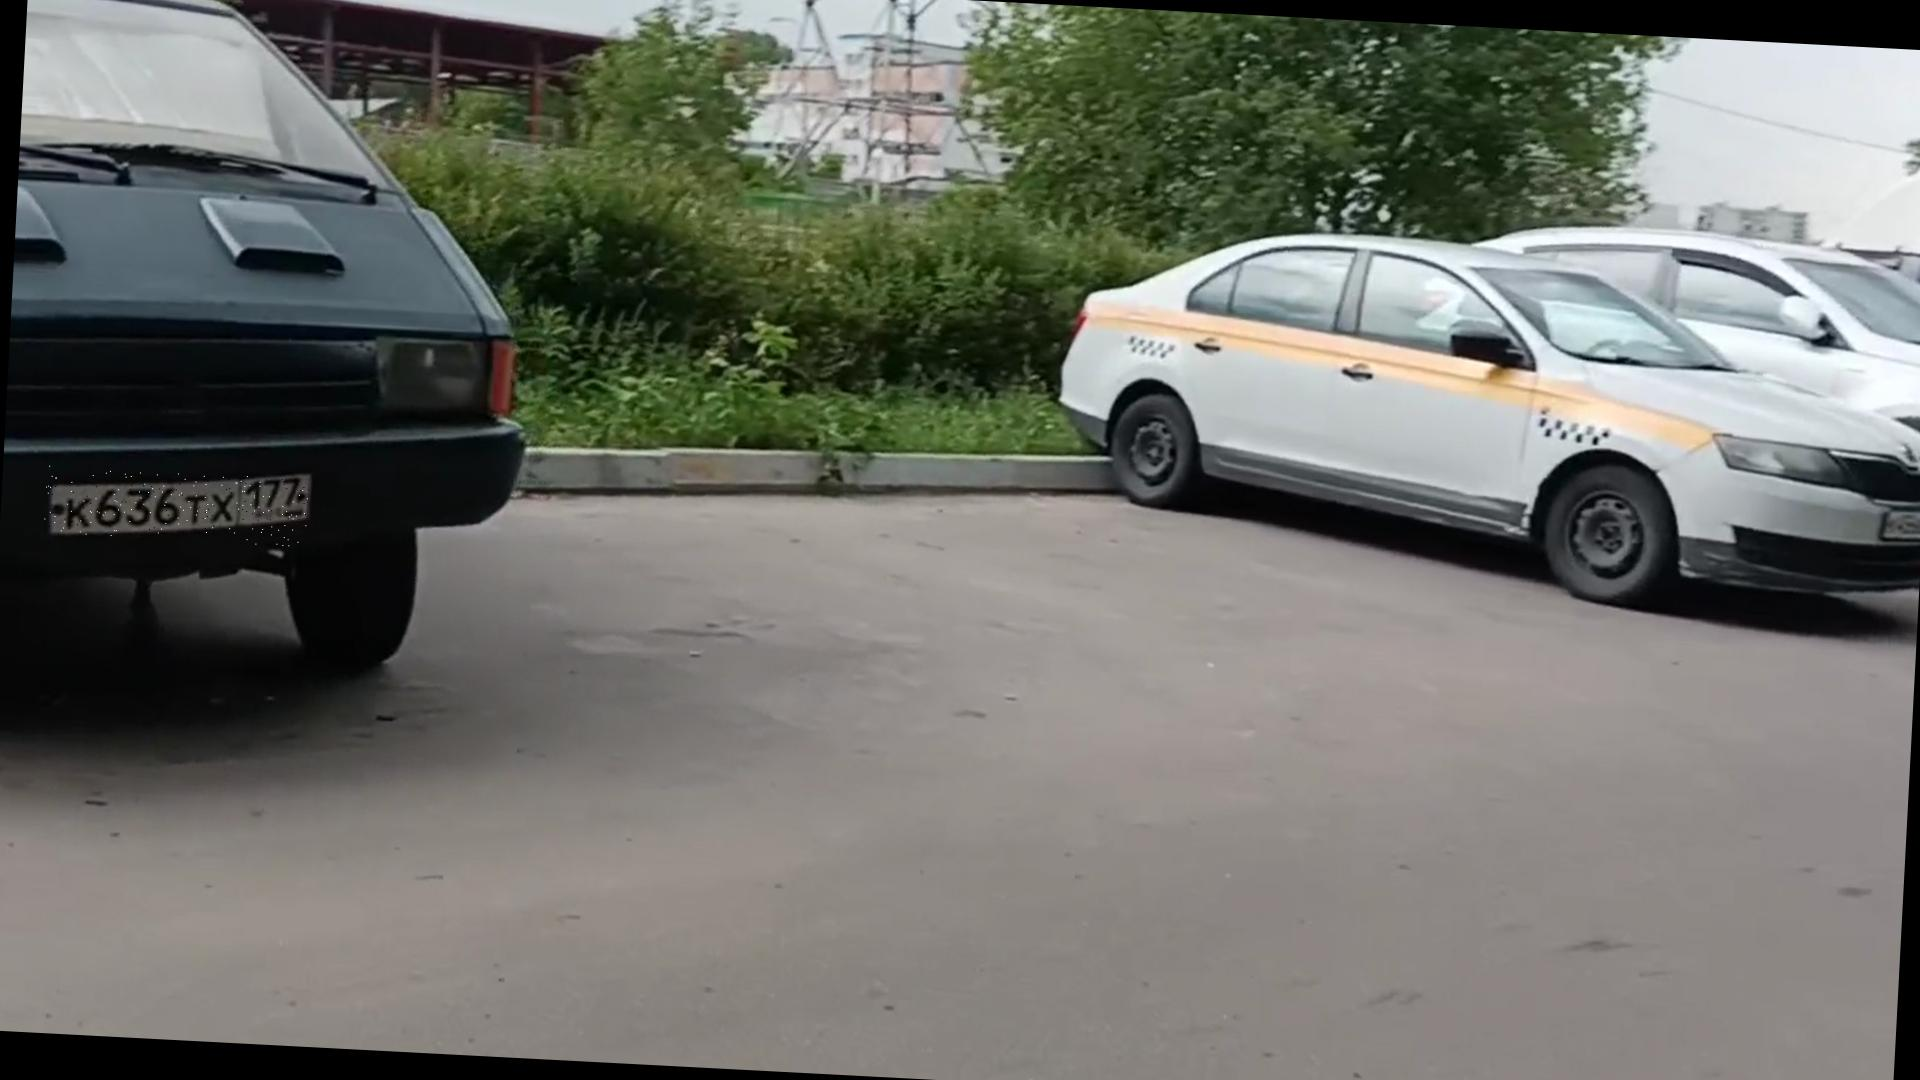plate: (45, 466, 311, 549)
